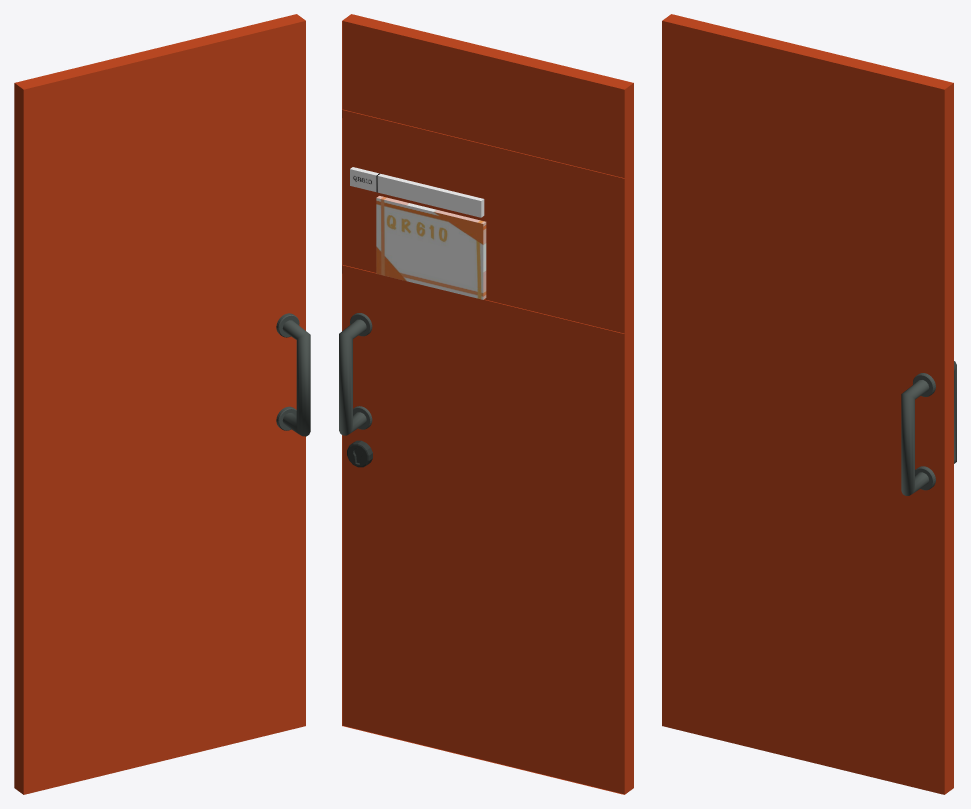
File: ClassRoomDoor.fbx
The picture shows the model from 3 angles, left to right: view 1: azimuth 30°, elevation 25°; view 2: azimuth 150°, elevation 25°; view 3: azimuth 330°, elevation 25°; orthographic projection.
Parts seen in each view (by area): view 1: 立牌.001, 把手; view 2: 立牌.001, 把手; view 3: 立牌.001, 把手.
Part boxes in pixels (left/top/right/bottom): 立牌.001: left=14, top=14, right=305, bottom=794; 把手: left=282, top=320, right=310, bottom=436; 立牌.001: left=342, top=14, right=633, bottom=794; 把手: left=339, top=319, right=366, bottom=435; 立牌.001: left=662, top=14, right=953, bottom=794; 把手: left=901, top=361, right=956, bottom=495.
Size of the model in its own units: 88 by 25.26 by 210.
